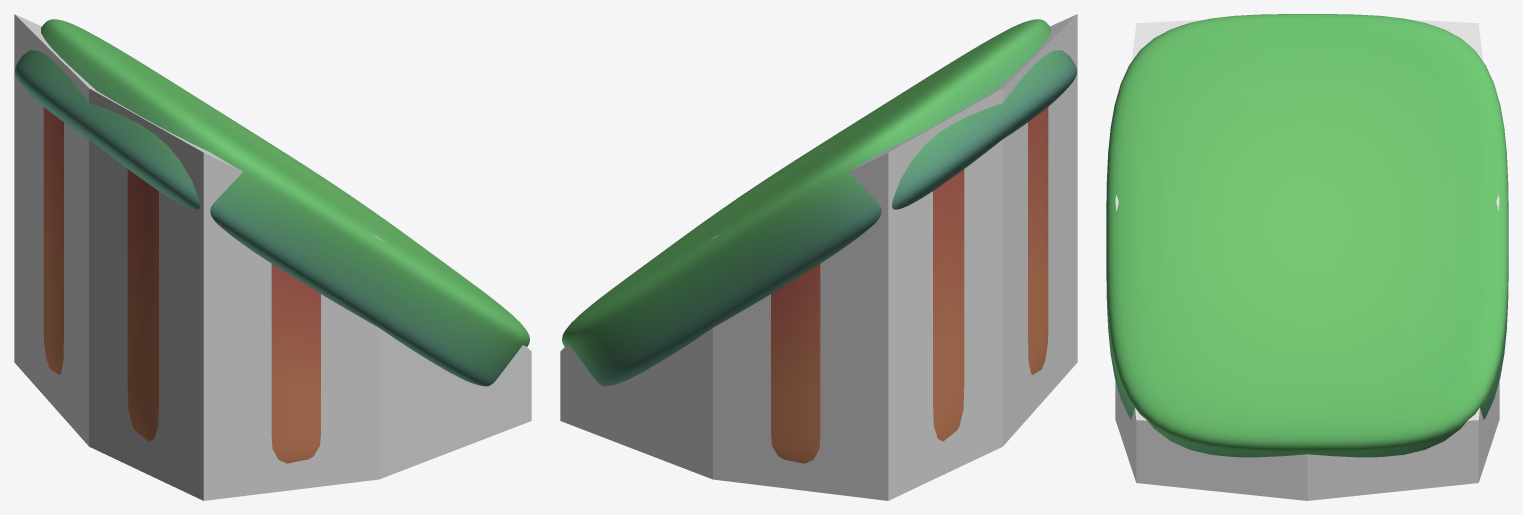
File: SlantBigMedium.glb
3 views of the same model, side by side, from view 1: azimuth 30°, elevation 25°; view 2: azimuth 150°, elevation 25°; view 3: azimuth 270°, elevation 25° (orthographic). The views are drawn at different scales.
Parts seen in each view (by area): view 1: colision-colonly.011, SlantBigMedium; view 2: colision-colonly.011, SlantBigMedium; view 3: SlantBigMedium, colision-colonly.011.
Boxes of the visible parts, x1,y1,x2,y2 form: colision-colonly.011: [14, 14, 531, 500]; SlantBigMedium: [15, 19, 529, 463]; colision-colonly.011: [560, 14, 1077, 500]; SlantBigMedium: [562, 19, 1076, 463]; SlantBigMedium: [1106, 14, 1508, 457]; colision-colonly.011: [1115, 19, 1499, 500].
Bounding box in the file's own units: 4.01 × 3.69 × 4.
1 material, 1 textured.
